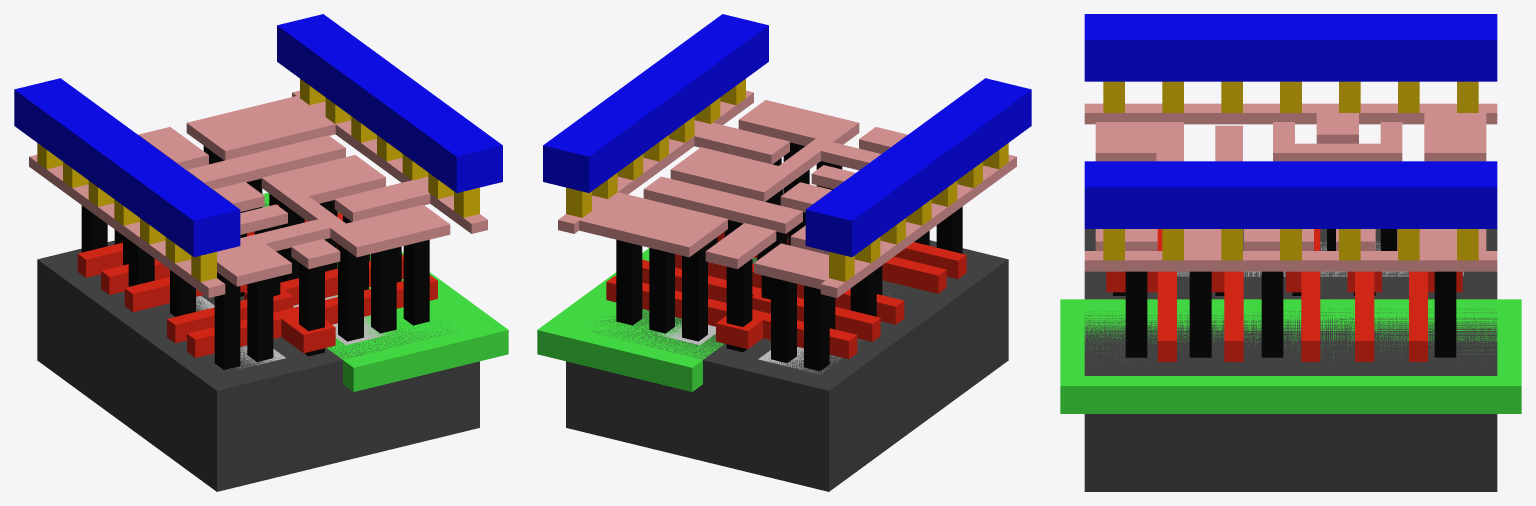
The model's file is sky130_fd_sc_hd__o311ai_1.obj.
3 views of the same model, side by side, from view 1: azimuth 30°, elevation 25°; view 2: azimuth 150°, elevation 25°; view 3: azimuth 270°, elevation 25° (orthographic). The views are drawn at different scales.
Parts seen in each view (by area): view 1: subs, li, metal1, licon, nwell, poly, mcon, diff; view 2: subs, li, metal1, licon, poly, nwell, mcon; view 3: metal1, subs, nwell, li, poly, mcon, licon, diff.
Part boxes in pixels (x1,y1,x2,y2): subs: (37,203,479,491); li: (29,90,487,297); metal1: (14,14,502,257); licon: (81,146,429,369); nwell: (262,193,508,391); poly: (77,204,437,357); mcon: (37,79,479,281); diff: (196,296,285,368); subs: (566,238,1008,491); li: (558,90,1016,297); metal1: (543,14,1031,257); licon: (616,142,962,370); poly: (606,232,966,358); nwell: (537,248,756,391); mcon: (566,79,1008,281); metal1: (1084,14,1497,228); subs: (1084,229,1497,491); nwell: (1060,299,1521,413); li: (1084,103,1497,271); poly: (1106,229,1462,361); mcon: (1103,81,1478,260); licon: (1113,229,1456,357); diff: (1177,241,1463,276).
Size of the model in its own units: 3.2 by 2.74 by 3.6.
